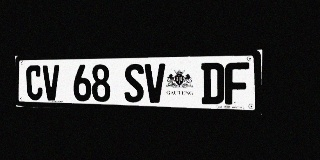6: (73, 64, 91, 101)
8: (91, 64, 111, 102)
C: (26, 65, 43, 100)
D: (201, 62, 224, 104)
F: (225, 62, 249, 105)
S: (124, 64, 144, 103)
V: (145, 63, 165, 103), (42, 65, 60, 101)
